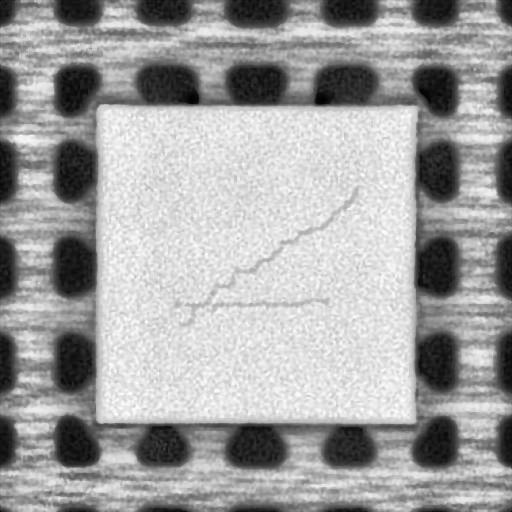DIE_CRACK: (173, 182, 359, 327), (171, 294, 332, 310)
